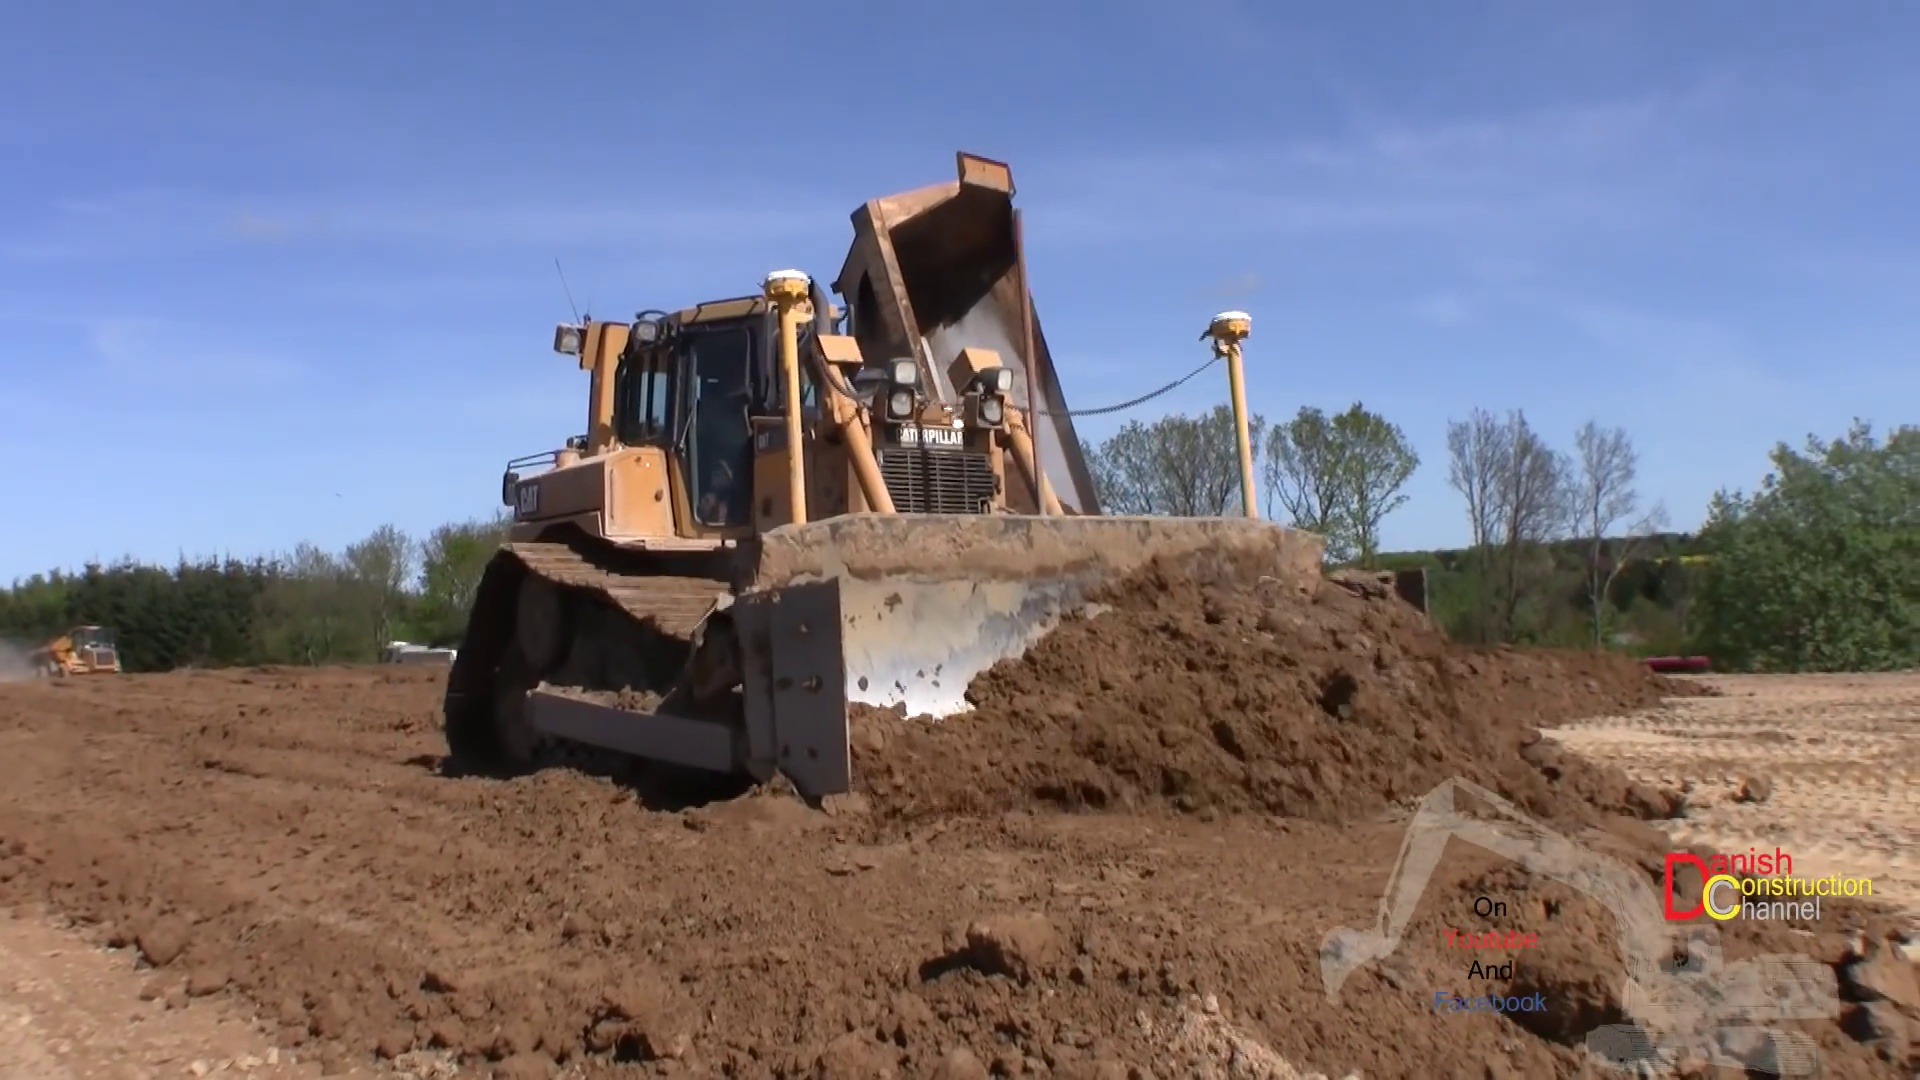bulldozer: (438, 146, 1353, 806)
